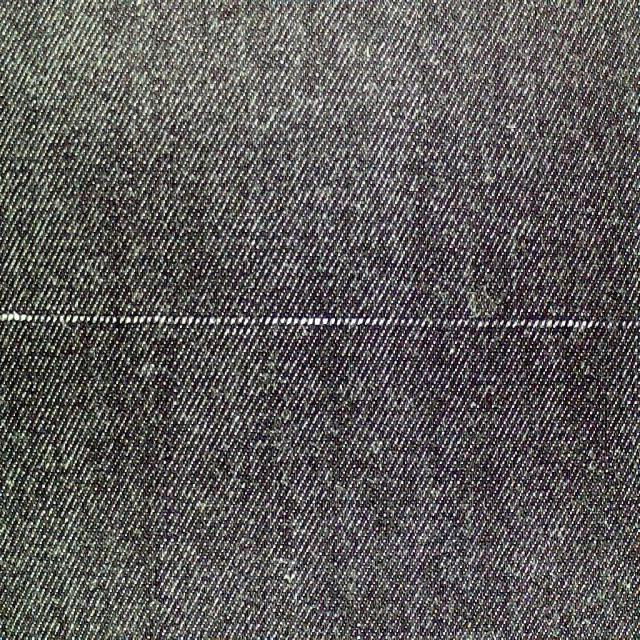Line: (0, 309, 640, 330)
